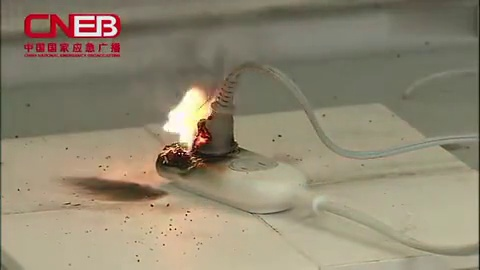fire: (155, 77, 215, 158)
